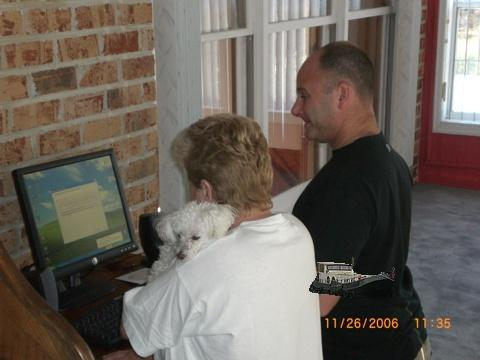tampered: (310, 258, 395, 298)
